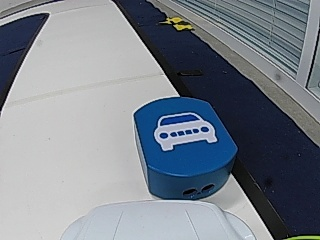safety: (154, 111, 218, 150)
